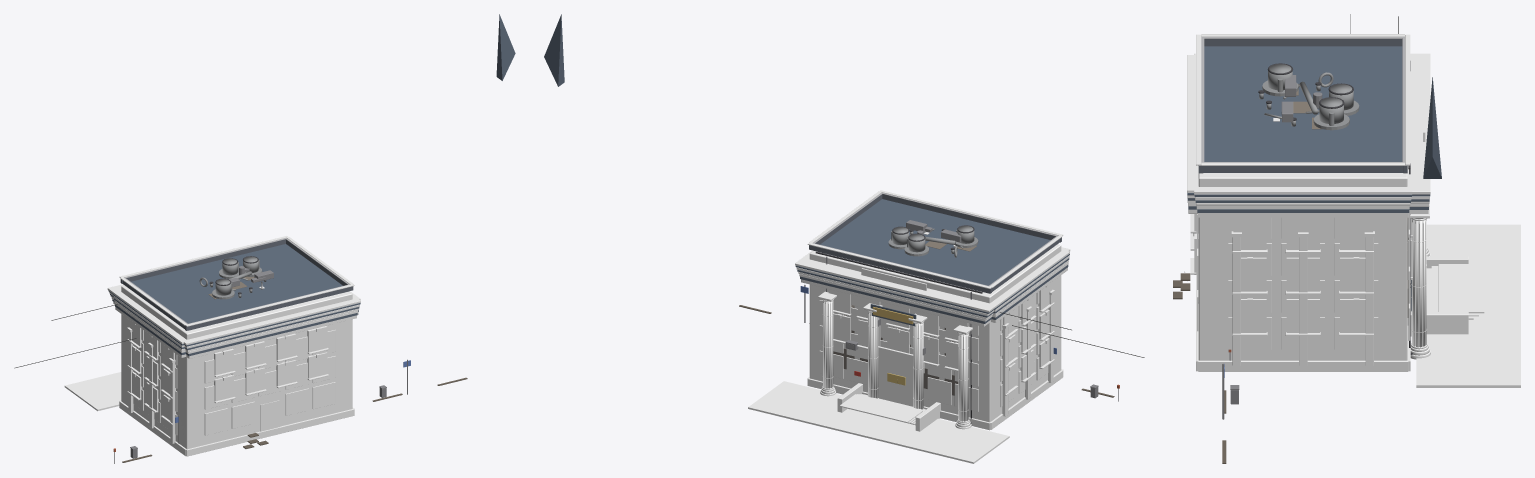
The model's file is hm_bank_annex_v10.glb.
3 views of the same model, side by side, from view 1: azimuth 30°, elevation 25°; view 2: azimuth 150°, elevation 25°; view 3: azimuth 270°, elevation 25° (orthographic). The views are drawn at different scales.
Parts seen in each view (by area): view 1: hm_bank_annex_v10_shell, hm_bank_annex_v10_roof, hm_bank_annex_v10_plaza, hm_bank_annex_v10_base_r, hm_bank_annex_v10_ent_r_7, hm_bank_annex_v10_par_par_f, hm_bank_annex_v10_par_par_r, hm_bank_annex_v10_ped, hm_bank_annex_v10_ent_r_0, hm_bank_annex_v10_ent_l_7, hm_bank_annex_v10_rdoor_frm, hm_bank_annex_v10_ash_r_0_3 (+6 smaller); view 2: hm_bank_annex_v10_roof, hm_bank_annex_v10_shell, hm_bank_annex_v10_plaza, hm_bank_annex_v10_ent_f_7, hm_bank_annex_v10_dmold_2, hm_bank_annex_v10_tread_6, hm_bank_annex_v10_par_par_r, hm_bank_annex_v10_col_0, hm_bank_annex_v10_col_3, hm_bank_annex_v10_par_par_f, hm_bank_annex_v10_col_1, hm_bank_annex_v10_col_2 (+6 smaller); view 3: hm_bank_annex_v10_roof, hm_bank_annex_v10_shell, hm_bank_annex_v10_plaza, hm_bank_annex_v10_ent_f_7, hm_bank_annex_v10_base_rr, hm_bank_annex_v10_tread_6, hm_bank_annex_v10_col_3, hm_bank_annex_v10_ent_rr_7, hm_bank_annex_v10_par_par_l, hm_bank_annex_v10_par_par_r.001, hm_bank_annex_v10_ent_r_7, hm_bank_annex_v10_spil_rr_0 (+41 smaller).
Boxes of the visible parts, x1,y1,x2,y2 form: hm_bank_annex_v10_shell: [121, 285, 352, 449]; hm_bank_annex_v10_roof: [131, 244, 342, 323]; hm_bank_annex_v10_plaza: [64, 372, 121, 411]; hm_bank_annex_v10_base_r: [186, 409, 354, 456]; hm_bank_annex_v10_ent_r_7: [184, 298, 360, 345]; hm_bank_annex_v10_par_par_f: [120, 239, 285, 283]; hm_bank_annex_v10_par_par_r: [185, 286, 353, 330]; hm_bank_annex_v10_ped: [496, 14, 515, 80]; hm_bank_annex_v10_ent_r_0: [186, 315, 356, 358]; hm_bank_annex_v10_ent_l_7: [113, 290, 188, 343]; hm_bank_annex_v10_rdoor_frm: [260, 400, 280, 431]; hm_bank_annex_v10_ash_r_0_3: [285, 388, 308, 415]; hm_bank_annex_v10_roof: [820, 199, 1050, 285]; hm_bank_annex_v10_shell: [809, 244, 1061, 422]; hm_bank_annex_v10_plaza: [748, 381, 1009, 463]; hm_bank_annex_v10_ent_f_7: [795, 255, 999, 312]; hm_bank_annex_v10_dmold_2: [878, 346, 913, 406]; hm_bank_annex_v10_tread_6: [839, 394, 922, 422]; hm_bank_annex_v10_par_par_r: [882, 194, 1061, 242]; hm_bank_annex_v10_col_0: [958, 334, 968, 421]; hm_bank_annex_v10_col_3: [823, 301, 833, 388]; hm_bank_annex_v10_par_par_f: [809, 245, 991, 293]; hm_bank_annex_v10_col_1: [913, 323, 923, 409]; hm_bank_annex_v10_col_2: [868, 312, 878, 398]; hm_bank_annex_v10_roof: [1203, 46, 1402, 172]; hm_bank_annex_v10_shell: [1198, 173, 1407, 360]; hm_bank_annex_v10_plaza: [1416, 224, 1520, 387]; hm_bank_annex_v10_ent_f_7: [1407, 53, 1430, 194]; hm_bank_annex_v10_base_rr: [1198, 360, 1408, 371]; hm_bank_annex_v10_tread_6: [1438, 264, 1484, 313]; hm_bank_annex_v10_col_3: [1411, 219, 1426, 347]; hm_bank_annex_v10_ent_rr_7: [1194, 186, 1412, 194]; hm_bank_annex_v10_par_par_l: [1204, 39, 1402, 46]; hm_bank_annex_v10_par_par_r.001: [1203, 166, 1402, 172]; hm_bank_annex_v10_ent_r_7: [1187, 55, 1200, 192]; hm_bank_annex_v10_spil_rr_0: [1232, 237, 1240, 365].
Bounding box in the file's own units: 50.77 × 27.09 × 18.3.
